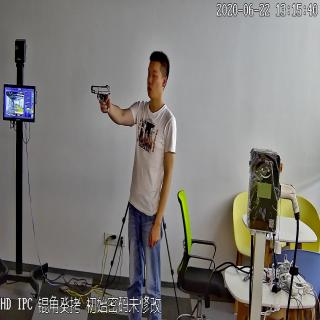gun: (90, 82, 112, 115)
